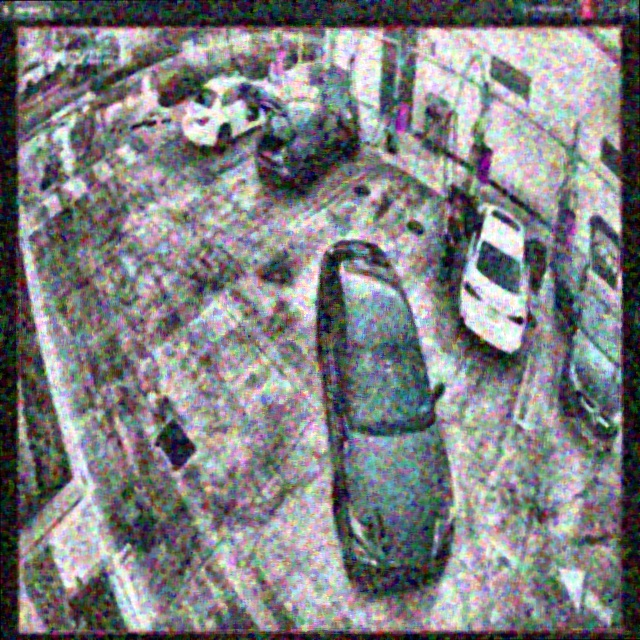Car: (312, 237, 454, 587), (443, 179, 557, 363), (254, 70, 359, 198), (186, 74, 285, 160)
